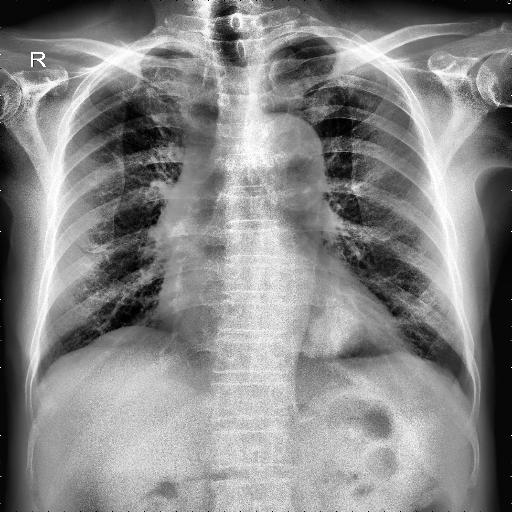0- Aortic enlargement: (153, 114, 320, 256), (241, 116, 323, 197), (244, 110, 324, 182)
3- Cardiomegaly: (156, 284, 406, 362), (159, 280, 406, 357), (157, 286, 396, 361)
